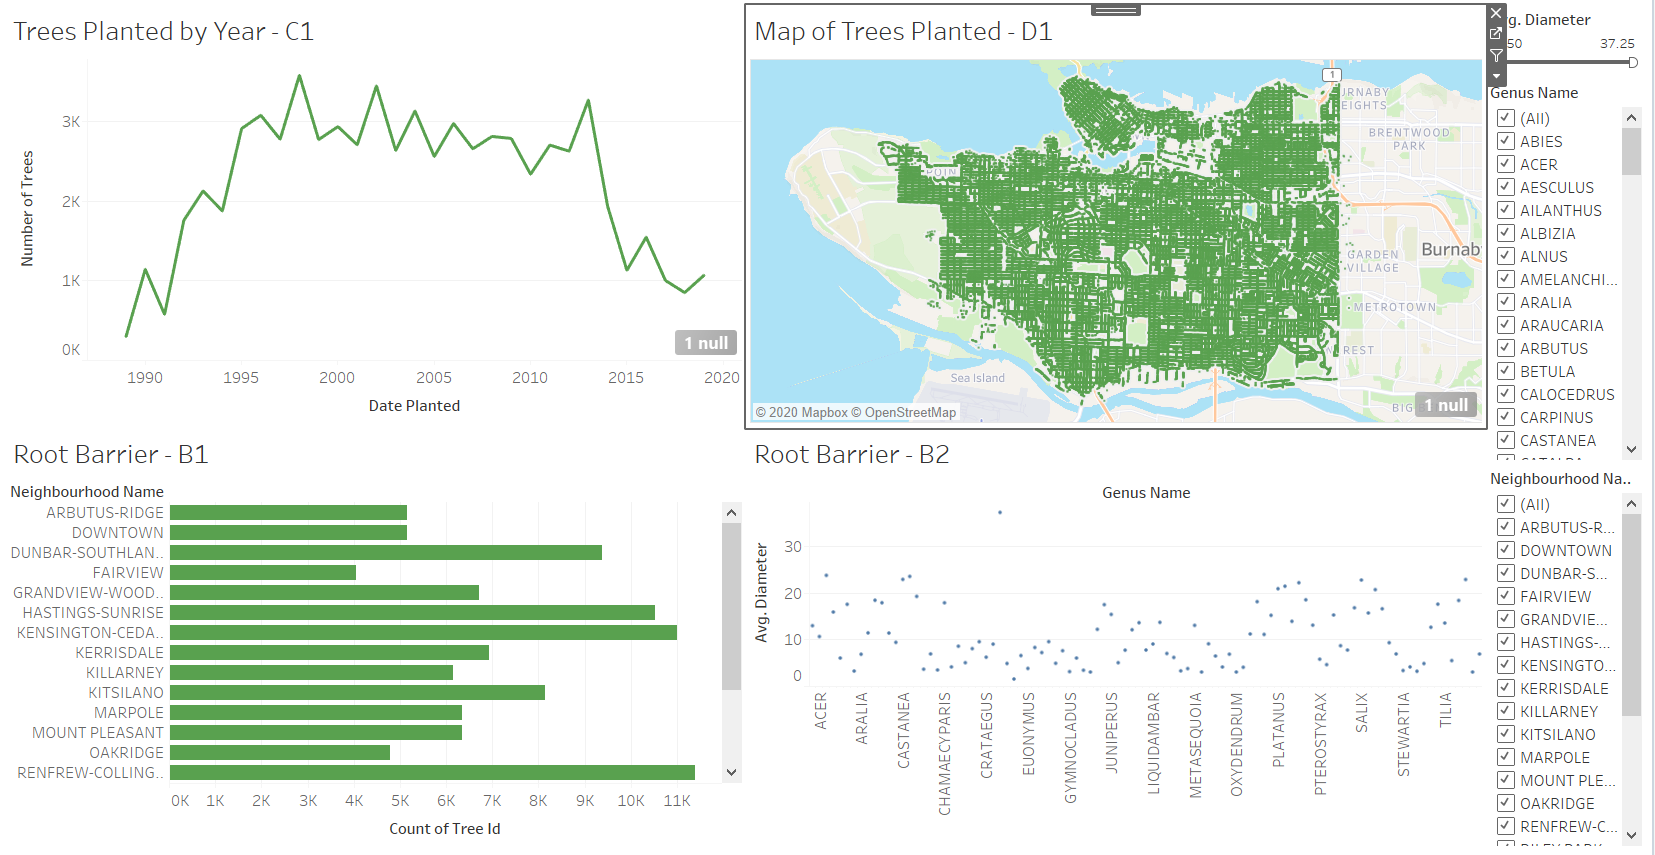

The page's visual inventory and layout, read from the dashboard file:
{"tool":"tableau","page":{"name":"Dashboard","canvas":[1000,1000],"units":"permille","ordinal":0},"visuals":[{"type":"worksheet","box":[0,0,1000,1000]},{"type":"worksheet","param":"horz","box":[4.8,9.3,990.3,981.4]},{"type":"worksheet","param":"horz","box":[4.8,9.3,893.8,981.4]},{"type":"worksheet","param":"horz","box":[4.8,9.3,893.8,981.4]},{"type":"worksheet","box":[4.8,9.3,893.8,981.4]},{"type":"worksheet","title":"Trees Planted by Year - C1","mark":"Automatic","rows":["tree_id"],"cols":["date_planted"],"box":[4.8,9.3,446.9,490.7]},{"type":"worksheet","title":"Map of Trees Planted - D1","mark":"Automatic","rows":["latitude"],"cols":["longitude"],"box":[451.7,9.3,446.9,490.7]},{"type":"worksheet","param":"vert","box":[898.6,9.3,96.6,981.4]},{"type":"worksheet","title":"Root Barrier - B2","mark":"Circle","rows":["diameter"],"cols":["genus_name"],"param":"[federated.196ment1nwd56x1851kff040dcyp].[avg:diameter:qk]","box":[898.6,9.3,96.6,84.8]},{"type":"worksheet","title":"Root Barrier - B2","mark":"Circle","rows":["diameter"],"cols":["genus_name"],"param":"[federated.196ment1nwd56x1851kff040dcyp].[none:genus_name:nk]","box":[898.6,94.1,96.6,448.3]},{"type":"worksheet","title":"Root Barrier - B1","mark":"Automatic","rows":["neighbourhood_name"],"cols":["tree_id"],"box":[4.8,500,446.9,490.7]},{"type":"worksheet","title":"Root Barrier - B2","mark":"Circle","rows":["diameter"],"cols":["genus_name"],"box":[451.7,500,446.9,490.7]},{"type":"worksheet","title":"Root Barrier - B1","mark":"Automatic","rows":["neighbourhood_name"],"cols":["tree_id"],"param":"[federated.196ment1nwd56x1851kff040dcyp].[none:neighbourhood_name:nk]","box":[898.6,542.4,96.6,448.3]}]}

Visuals, with their boxes on the dashboard's canvas, which has no fixed pixel size, in thousandths of its width and height (x1, y1, x2, y2). These are canvas units, not pixel positions in the 1655x855 screenshot, which may show the page scaled, cropped or inside an application window:
worksheet: [0, 0, 1000, 1000]
worksheet: [5, 9, 995, 991]
worksheet: [5, 9, 899, 991]
worksheet: [5, 9, 899, 991]
worksheet: [5, 9, 899, 991]
"Trees Planted by Year - C1" worksheet: [5, 9, 452, 500]
"Map of Trees Planted - D1" worksheet: [452, 9, 899, 500]
worksheet: [899, 9, 995, 991]
"Root Barrier - B2" worksheet (Circle marks): [899, 9, 995, 94]
"Root Barrier - B2" worksheet (Circle marks): [899, 94, 995, 542]
"Root Barrier - B1" worksheet: [5, 500, 452, 991]
"Root Barrier - B2" worksheet (Circle marks): [452, 500, 899, 991]
"Root Barrier - B1" worksheet: [899, 542, 995, 991]
